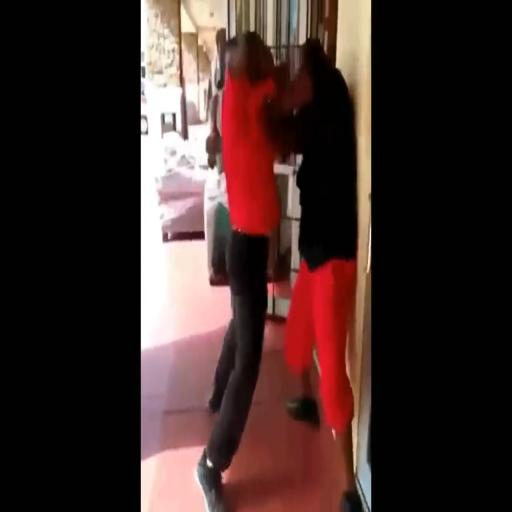violencia: (188, 15, 364, 512)
